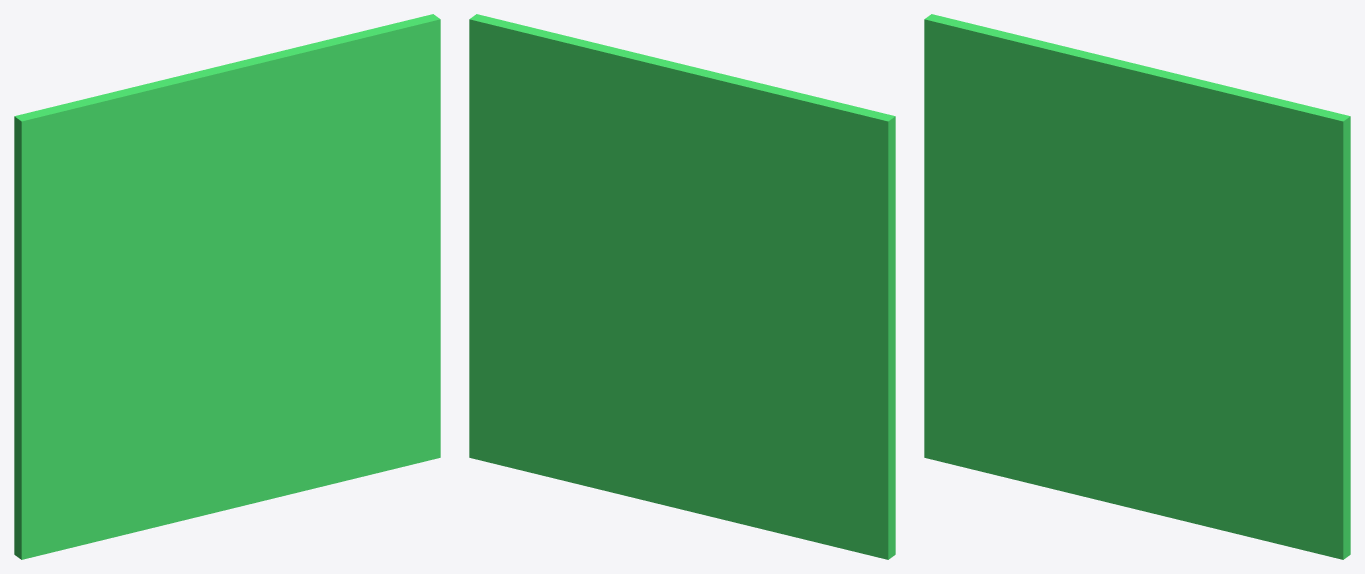
File: Eclipse_DISP_Beryllium_3mm.gltf
3 renders of one model, left to right at view 1: azimuth 30°, elevation 25°; view 2: azimuth 150°, elevation 25°; view 3: azimuth 330°, elevation 25°, orthographic.
Parts seen in each view (by area): view 1: Renderer Node; view 2: Renderer Node; view 3: Renderer Node.
Part boxes in pixels (left/top/right/bottom): Renderer Node: left=14, top=14, right=440, bottom=559; Renderer Node: left=469, top=14, right=895, bottom=559; Renderer Node: left=924, top=14, right=1350, bottom=559.
Bounding box in the file's own units: 92.88 × 92.88 × 2.79.
1 material, 1 textured.
